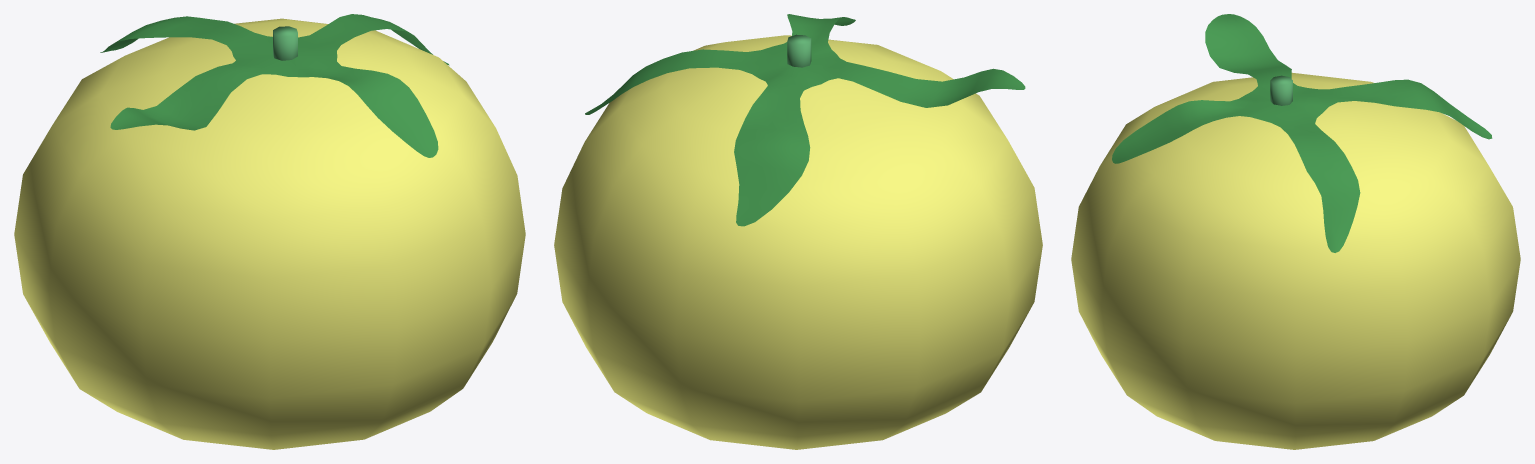
The model's file is tomato_tier4.glb.
3 renders of one model, left to right at view 1: azimuth 30°, elevation 25°; view 2: azimuth 150°, elevation 25°; view 3: azimuth 270°, elevation 25°, orthographic. The views are drawn at different scales.
Parts seen in each view (by area): view 1: Sphere.004, Sphere.002, Cylinder.002; view 2: Sphere.004, Sphere.002, Cylinder.002; view 3: Sphere.004, Sphere.002, Cylinder.002.
Part boxes in pixels (x1=…): Sphere.004: x1=14, y1=18, x2=525, y2=449; Sphere.002: x1=100, y1=14, x2=449, y2=157; Cylinder.002: x1=273, y1=26, x2=297, y2=60; Sphere.004: x1=554, y1=35, x2=1042, y2=449; Sphere.002: x1=585, y1=14, x2=1025, y2=226; Cylinder.002: x1=787, y1=34, x2=811, y2=67; Sphere.004: x1=1071, y1=72, x2=1520, y2=449; Sphere.002: x1=1112, y1=14, x2=1492, y2=252; Cylinder.002: x1=1270, y1=75, x2=1292, y2=105.
Size of the model in its own units: 4.03 by 3.37 by 4.03.
